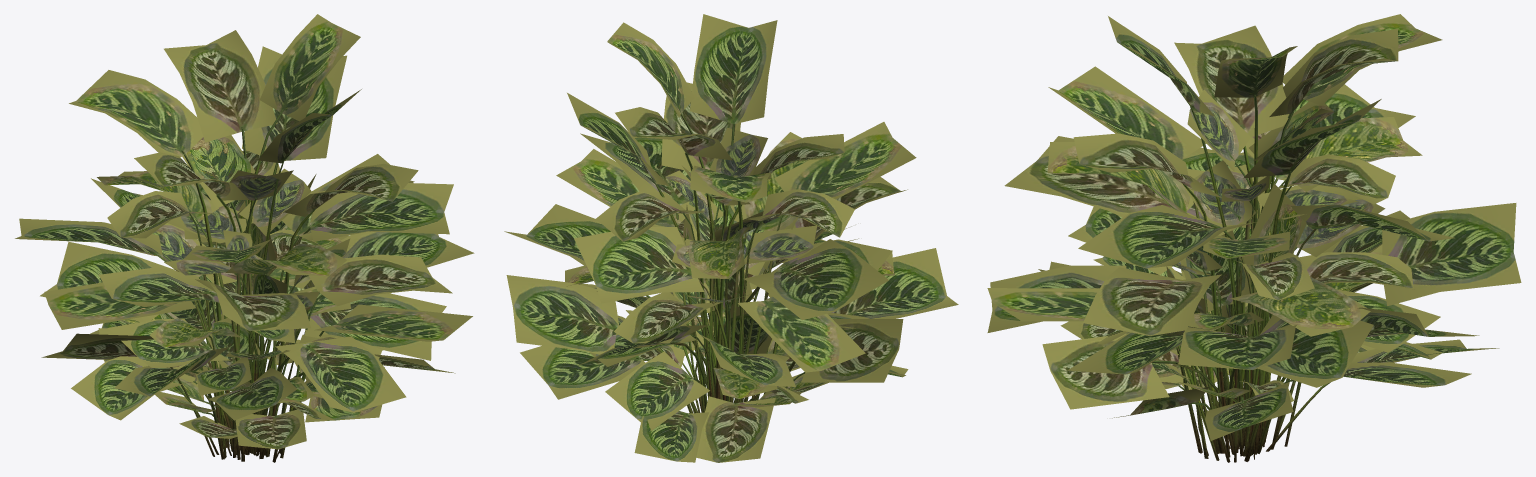
Rendered from sm10_032_tropicalplant07a.fbx.
3 renders of one model, left to right at view 1: azimuth 30°, elevation 25°; view 2: azimuth 150°, elevation 25°; view 3: azimuth 270°, elevation 25°, orthographic. The views are drawn at different scales.
Parts seen in each view (by area): view 1: LOD_1_Group_0_Sub_1__sm10_032_TropicalPlant07A_A_Mat__Env_Al, LOD_1_Group_1_Sub_1__sm10_032_TropicalPlant07A_A_Mat; view 2: LOD_1_Group_0_Sub_1__sm10_032_TropicalPlant07A_A_Mat__Env_Al, LOD_1_Group_1_Sub_1__sm10_032_TropicalPlant07A_A_Mat; view 3: LOD_1_Group_0_Sub_1__sm10_032_TropicalPlant07A_A_Mat__Env_Al, LOD_1_Group_1_Sub_1__sm10_032_TropicalPlant07A_A_Mat.
Boxes of the visible parts, left/top/right/bottom form: LOD_1_Group_0_Sub_1__sm10_032_TropicalPlant07A_A_Mat__Env_Al: left=15, top=14, right=474, bottom=449; LOD_1_Group_1_Sub_1__sm10_032_TropicalPlant07A_A_Mat: left=157, top=109, right=340, bottom=462; LOD_1_Group_0_Sub_1__sm10_032_TropicalPlant07A_A_Mat__Env_Al: left=504, top=14, right=958, bottom=462; LOD_1_Group_1_Sub_1__sm10_032_TropicalPlant07A_A_Mat: left=613, top=111, right=805, bottom=414; LOD_1_Group_0_Sub_1__sm10_032_TropicalPlant07A_A_Mat__Env_Al: left=987, top=14, right=1521, bottom=440; LOD_1_Group_1_Sub_1__sm10_032_TropicalPlant07A_A_Mat: left=1152, top=94, right=1372, bottom=462.
Bounding box in the file's own units: 1.59 × 1.5 × 1.59.
